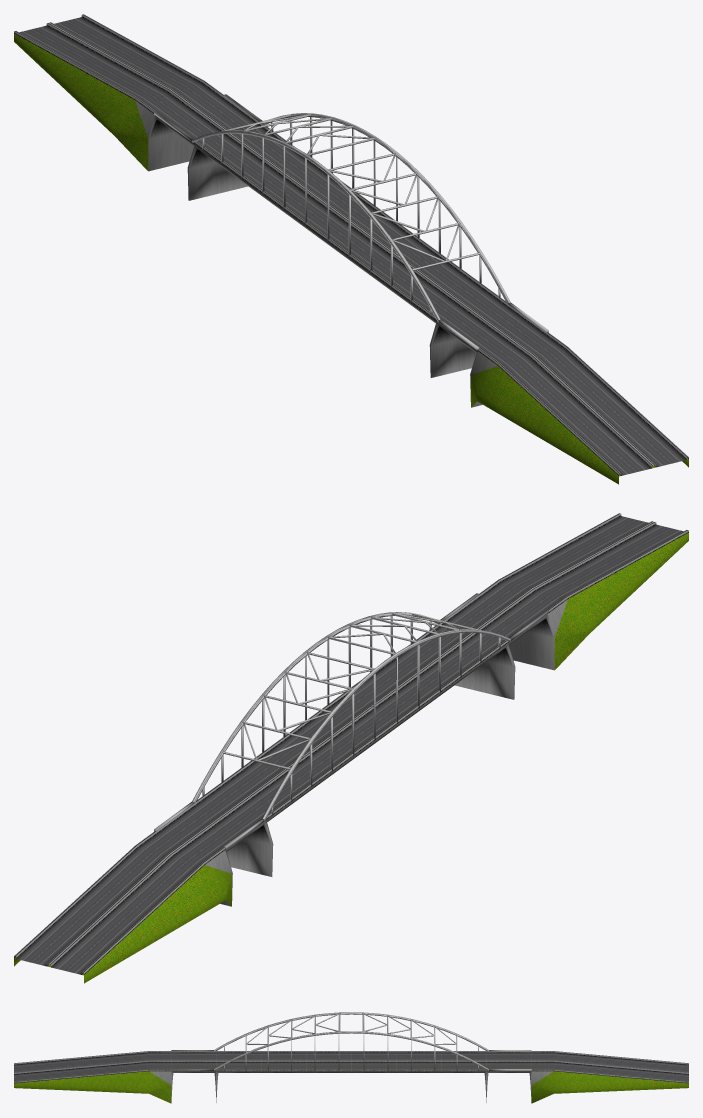
The model's file is brug_snelweg_1d.fbx.
3 views of the same model, one above another, from view 1: azimuth 30°, elevation 25°; view 2: azimuth 150°, elevation 25°; view 3: azimuth 270°, elevation 25° (orthographic). The views are drawn at different scales.
Visible parts, largest first — view 1: brug_snelweg_1d; view 2: brug_snelweg_1d; view 3: brug_snelweg_1d.
Part boxes in pixels (<box>): brug_snelweg_1d: <box>14,14,688,484</box>; brug_snelweg_1d: <box>14,513,688,983</box>; brug_snelweg_1d: <box>14,1012,688,1103</box>.
Bounding box in the file's own units: 3200 × 3448 × 30006.
